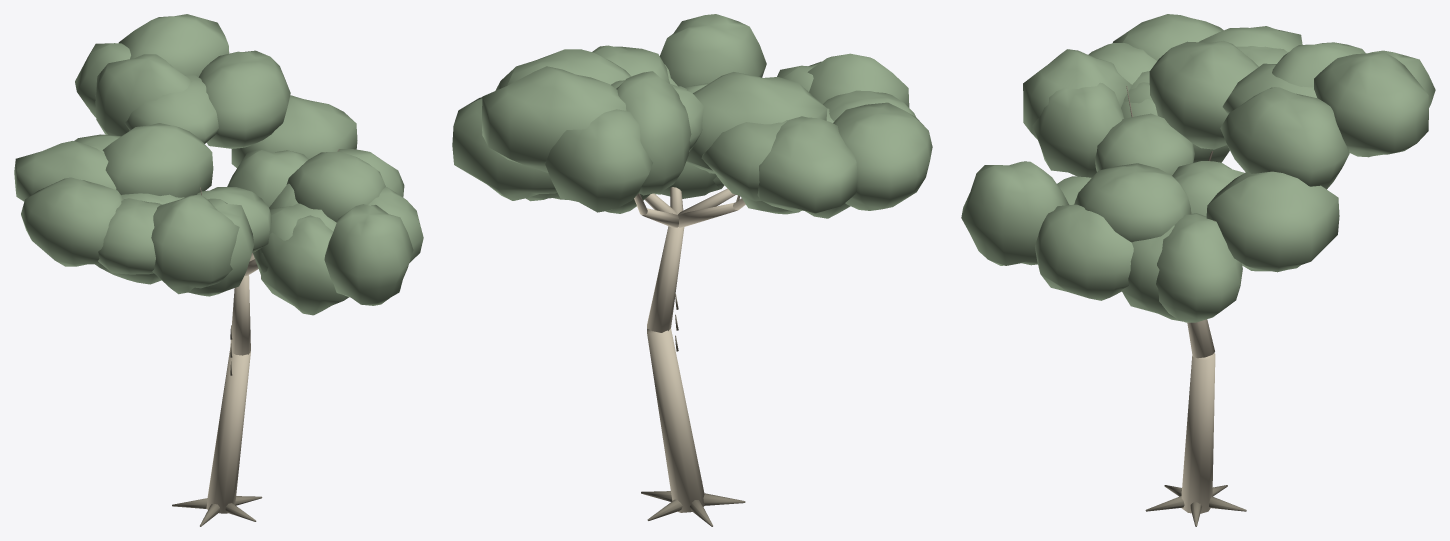
Rendered from beta_tree_gum.glb.
3 views of the same model, side by side, from view 1: azimuth 30°, elevation 25°; view 2: azimuth 150°, elevation 25°; view 3: azimuth 270°, elevation 25° (orthographic). The views are drawn at different scales.
Parts seen in each view (by area): view 1: Canopy soft sage foliage, Beta pale peeling bark, Beta dark bark ridges; view 2: Canopy soft sage foliage, Beta pale peeling bark, Beta dark bark ridges; view 3: Canopy soft sage foliage, Beta pale peeling bark, Beta dark bark ridges.
Part boxes in pixels (x1=…): Canopy soft sage foliage: x1=14, y1=14, x2=423, y2=315; Beta pale peeling bark: x1=206, y1=253, x2=258, y2=513; Beta dark bark ridges: x1=172, y1=149, x2=339, y2=526; Canopy soft sage foliage: x1=452, y1=14, x2=932, y2=218; Beta pale peeling bark: x1=634, y1=187, x2=745, y2=512; Beta dark bark ridges: x1=641, y1=195, x2=745, y2=526; Canopy soft sage foliage: x1=961, y1=14, x2=1435, y2=322; Beta pale peeling bark: x1=1181, y1=319, x2=1215, y2=513; Beta dark bark ridges: x1=1126, y1=86, x2=1246, y2=526.
Bounding box in the file's own units: 7.74 × 8.32 × 7.64.
